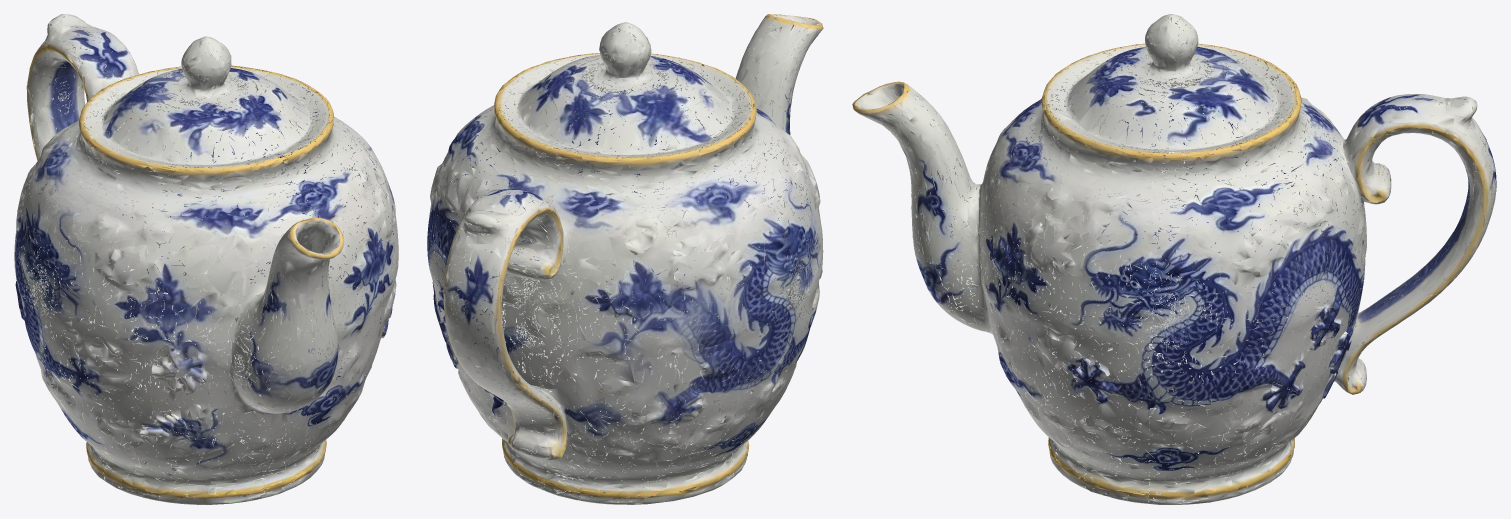
3 renders of one model, left to right at view 1: azimuth 30°, elevation 25°; view 2: azimuth 150°, elevation 25°; view 3: azimuth 270°, elevation 25°, orthographic. The views are drawn at different scales.
Visible parts, largest first — view 1: tripo_node_ee0d7370-14ba-42a0-885c-bd2a4662ae67; view 2: tripo_node_ee0d7370-14ba-42a0-885c-bd2a4662ae67; view 3: tripo_node_ee0d7370-14ba-42a0-885c-bd2a4662ae67.
Part boxes in pixels (<box>): tripo_node_ee0d7370-14ba-42a0-885c-bd2a4662ae67: <box>14,14,398,504</box>; tripo_node_ee0d7370-14ba-42a0-885c-bd2a4662ae67: <box>427,14,823,504</box>; tripo_node_ee0d7370-14ba-42a0-885c-bd2a4662ae67: <box>852,14,1496,504</box>.
Bounding box in the file's own units: 0.6153 × 0.7375 × 0.9797.
1 material, 1 textured.
